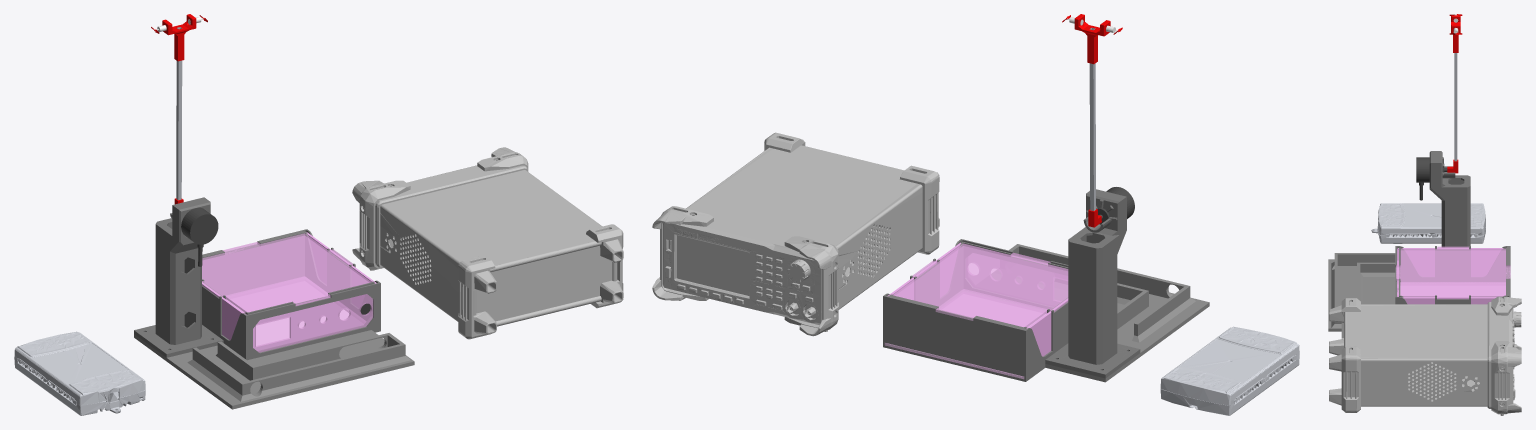
The model's file is aeropendulo.glb.
3 renders of one model, left to right at view 1: azimuth 30°, elevation 25°; view 2: azimuth 150°, elevation 25°; view 3: azimuth 270°, elevation 25°, orthographic. The views are drawn at different scales.
Visible parts, largest first — view 1: Generador_de_onda-1, Ensamblaje1-1_Caja_Electronica_PLA-1, Soporte_todo-1, Ensamblaje1-1_Tapa_Arriba_acrilico-1, cu_usb_621x_4conn_stp-1, Ensamble-2_Prototipo_1-1, Ensamblaje1-1_Parte_de_abajo_acrilico-1, Ensamblaje1-1_Lado_con_Huecos_acrilico-1, Ensamble-2_Encoder_-_YUMO_E6B2-CWZ3E-1, Ensamblaje1-1_Acrilico_lado-2, Ensamble-2_Varilla-1, Ensamble-2_Soporte_Motores-1 (+1 smaller); view 2: Generador_de_onda-1, Ensamblaje1-1_Caja_Electronica_PLA-1, Ensamblaje1-1_Tapa_Arriba_acrilico-1, Ensamble-2_Prototipo_1-1, cu_usb_621x_4conn_stp-1, Soporte_todo-1, Ensamblaje1-1_Lado_con_Huecos_acrilico-1, Ensamblaje1-1_Parte_de_abajo_acrilico-1, Ensamblaje1-1_Acrilico_lado-2, Ensamble-2_Varilla-1, Ensamble-2_Soporte_Motores-1, Ensamblaje1-1_Acrilico_lado-1; view 3: Generador_de_onda-1, Ensamblaje1-1_Tapa_Arriba_acrilico-1, Soporte_todo-1, cu_usb_621x_4conn_stp-1, Ensamblaje1-1_Caja_Electronica_PLA-1, Ensamble-2_Prototipo_1-1, Ensamblaje1-1_Parte_de_abajo_acrilico-1, Ensamblaje1-1_Acrilico_lado-1, Ensamblaje1-1_Acrilico_lado-2, Ensamble-2_Encoder_-_YUMO_E6B2-CWZ3E-1, Ensamble-2_Varilla-1, Ensamble-2_Soporte_Motores-1.
Boxes of the visible parts, box(x1,y1,x2,y2) form: Generador_de_onda-1: box(352, 147, 623, 339); Ensamblaje1-1_Caja_Electronica_PLA-1: box(202, 229, 380, 360); Soporte_todo-1: box(134, 330, 414, 409); Ensamblaje1-1_Tapa_Arriba_acrilico-1: box(202, 233, 371, 312); cu_usb_621x_4conn_stp-1: box(14, 331, 145, 415); Ensamble-2_Prototipo_1-1: box(134, 197, 223, 357); Ensamblaje1-1_Parte_de_abajo_acrilico-1: box(226, 277, 365, 350); Ensamblaje1-1_Lado_con_Huecos_acrilico-1: box(253, 294, 373, 352); Ensamble-2_Encoder_-_YUMO_E6B2-CWZ3E-1: box(181, 207, 218, 266); Ensamblaje1-1_Acrilico_lado-2: box(306, 232, 376, 307); Ensamble-2_Varilla-1: box(176, 27, 182, 200); Ensamble-2_Soporte_Motores-1: box(162, 14, 196, 61); Generador_de_onda-1: box(652, 132, 939, 336); Ensamblaje1-1_Caja_Electronica_PLA-1: box(883, 239, 1068, 381); Ensamblaje1-1_Tapa_Arriba_acrilico-1: box(893, 243, 1068, 327); Ensamble-2_Prototipo_1-1: box(1045, 189, 1140, 378); cu_usb_621x_4conn_stp-1: box(1160, 326, 1299, 415); Soporte_todo-1: box(991, 244, 1209, 382); Ensamblaje1-1_Lado_con_Huecos_acrilico-1: box(966, 253, 1067, 306); Ensamblaje1-1_Parte_de_abajo_acrilico-1: box(884, 292, 1046, 379); Ensamblaje1-1_Acrilico_lado-2: box(887, 242, 960, 299); Ensamble-2_Varilla-1: box(1089, 28, 1095, 210); Ensamble-2_Soporte_Motores-1: box(1074, 14, 1110, 64); Ensamblaje1-1_Acrilico_lado-1: box(1026, 298, 1068, 356); Generador_de_onda-1: box(1329, 296, 1521, 415); Ensamblaje1-1_Tapa_Arriba_acrilico-1: box(1396, 246, 1510, 299); Soporte_todo-1: box(1328, 253, 1395, 331); cu_usb_621x_4conn_stp-1: box(1371, 203, 1485, 243); Ensamblaje1-1_Caja_Electronica_PLA-1: box(1395, 246, 1510, 304); Ensamble-2_Prototipo_1-1: box(1429, 151, 1470, 247); Ensamblaje1-1_Parte_de_abajo_acrilico-1: box(1398, 282, 1505, 296); Ensamblaje1-1_Acrilico_lado-1: box(1397, 248, 1503, 276); Ensamblaje1-1_Acrilico_lado-2: box(1402, 297, 1496, 304); Ensamble-2_Encoder_-_YUMO_E6B2-CWZ3E-1: box(1416, 157, 1447, 200); Ensamble-2_Varilla-1: box(1454, 53, 1457, 161); Ensamble-2_Soporte_Motores-1: box(1451, 15, 1460, 52).
Bounding box in the file's own units: 738 × 441 × 302.
